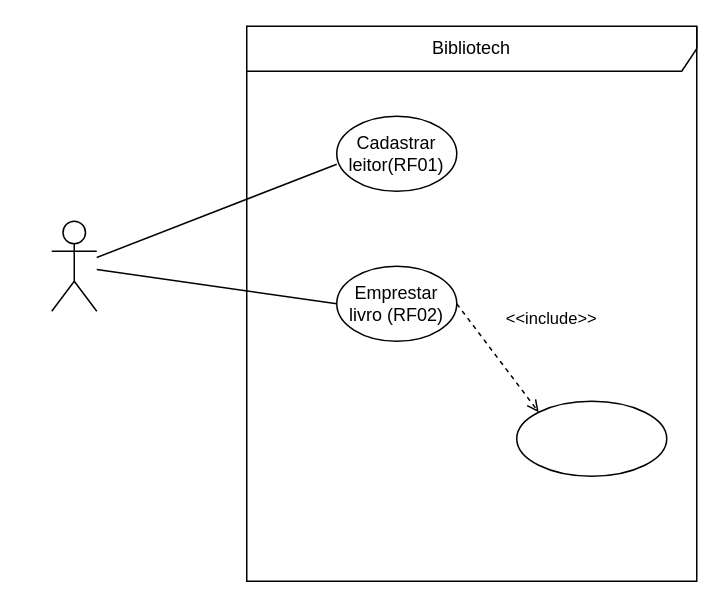
The diagram is 723 pixels wide and 608 high, and some of its shapes have lost their labels. The centre of each missing label's shape, as x and y in pixels:
Bibliotecario: the point at 73,265
Validar pendências do leitor: the point at 591,438
